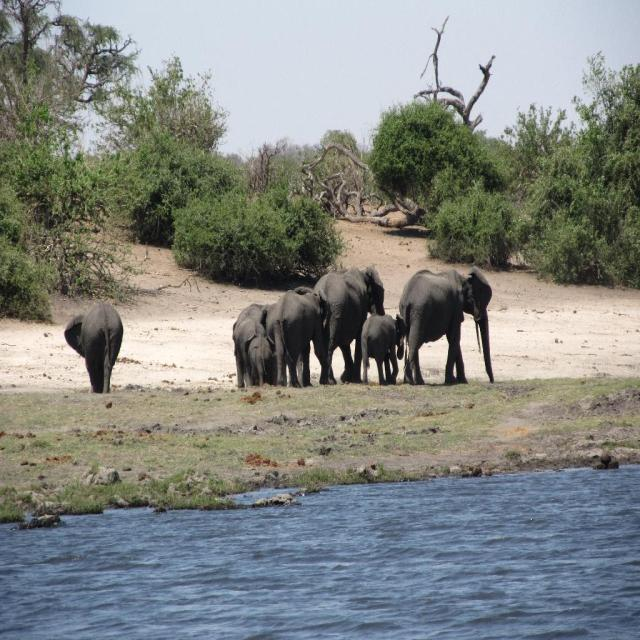Elephant: (396, 265, 494, 385), (313, 264, 385, 384), (260, 286, 328, 387), (63, 299, 123, 393), (360, 313, 403, 385)
